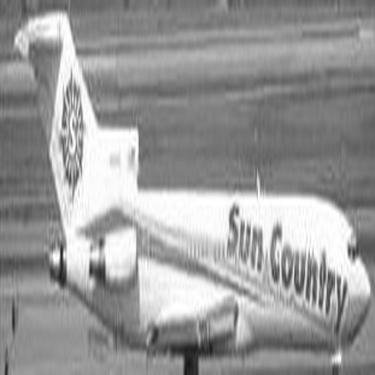airplane: (1, 2, 363, 362)
